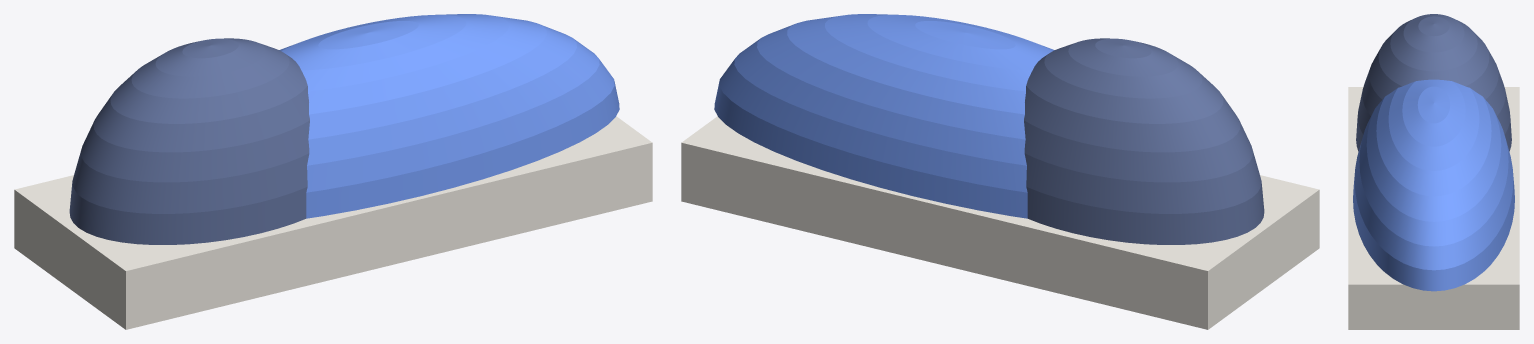
File: tenis.glb
3 renders of one model, left to right at view 1: azimuth 30°, elevation 25°; view 2: azimuth 150°, elevation 25°; view 3: azimuth 270°, elevation 25°, orthographic. The views are drawn at different scales.
Visible parts, largest first — view 1: tenis; view 2: tenis; view 3: tenis.
Part boxes in pixels (left/top/right/bottom): tenis: left=14, top=14, right=652, bottom=329; tenis: left=681, top=14, right=1319, bottom=329; tenis: left=1348, top=14, right=1519, bottom=329.
Bounding box in the file's own units: 0.31 × 0.114 × 0.11.
